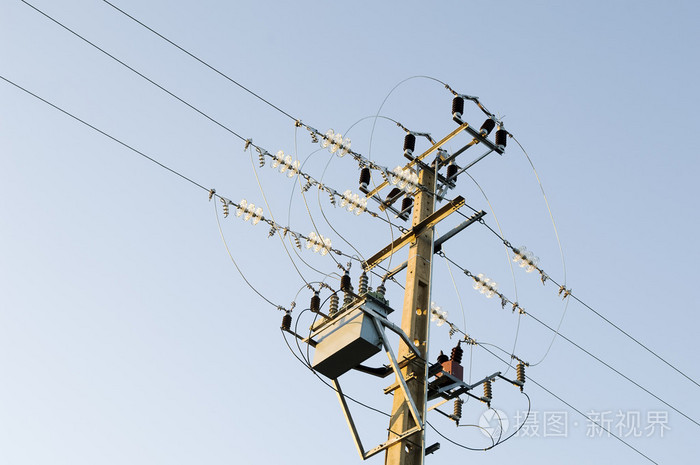insulator: (319, 129, 354, 157), (272, 148, 302, 177), (337, 190, 367, 216), (234, 199, 263, 225), (510, 246, 539, 271), (305, 231, 333, 255), (470, 273, 497, 296), (429, 300, 449, 324)
